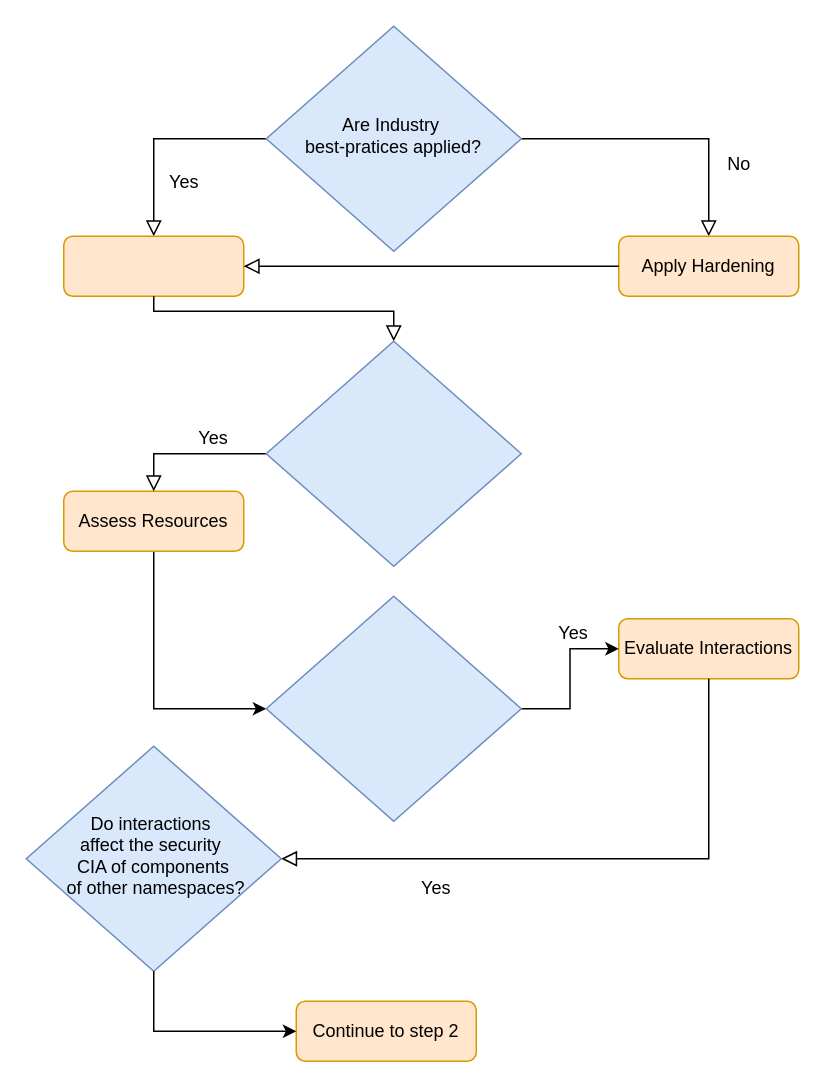
This 825x1088 diagram has some shape labels left out. Here are the shapes that lost their labels. From the top down, the box of each, then its label:
(62, 235, 244, 296): Identify Components
(265, 340, 521, 566): Are resources in control of a tenant?
(265, 595, 521, 821): Do Resources interact with the control plane? or with the data plane?
